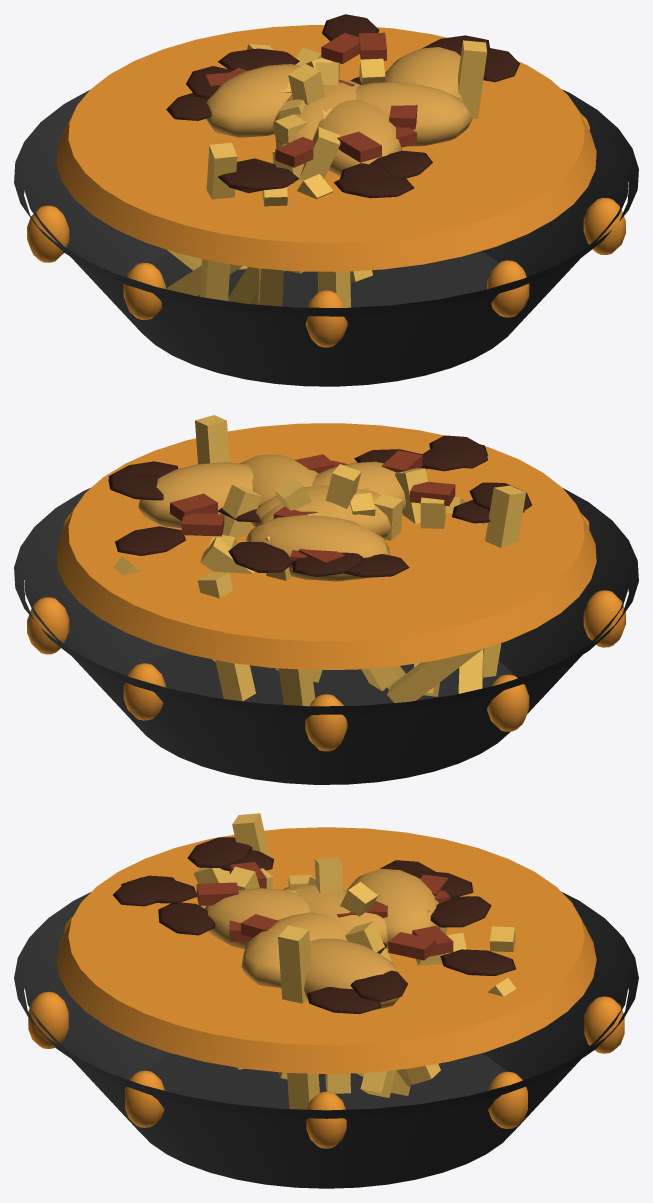
Rendered from cheddar-bowl.glb.
3 views of the same model, one above another, from view 1: azimuth 30°, elevation 25°; view 2: azimuth 150°, elevation 25°; view 3: azimuth 270°, elevation 25° (orthographic).
Size of the model in its own units: 0.3098 by 0.13 by 0.3098.
